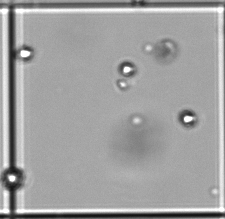Dead Cell: (155, 39, 178, 64)
Living Cell: (4, 170, 23, 188), (180, 109, 196, 127), (119, 61, 136, 77), (17, 46, 33, 60), (116, 79, 130, 90)
